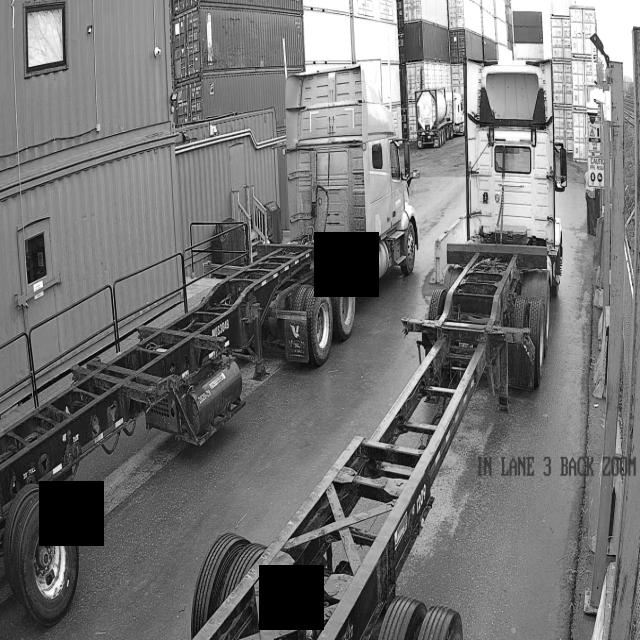truck_without_container: (0, 67, 419, 624), (190, 60, 567, 640)
